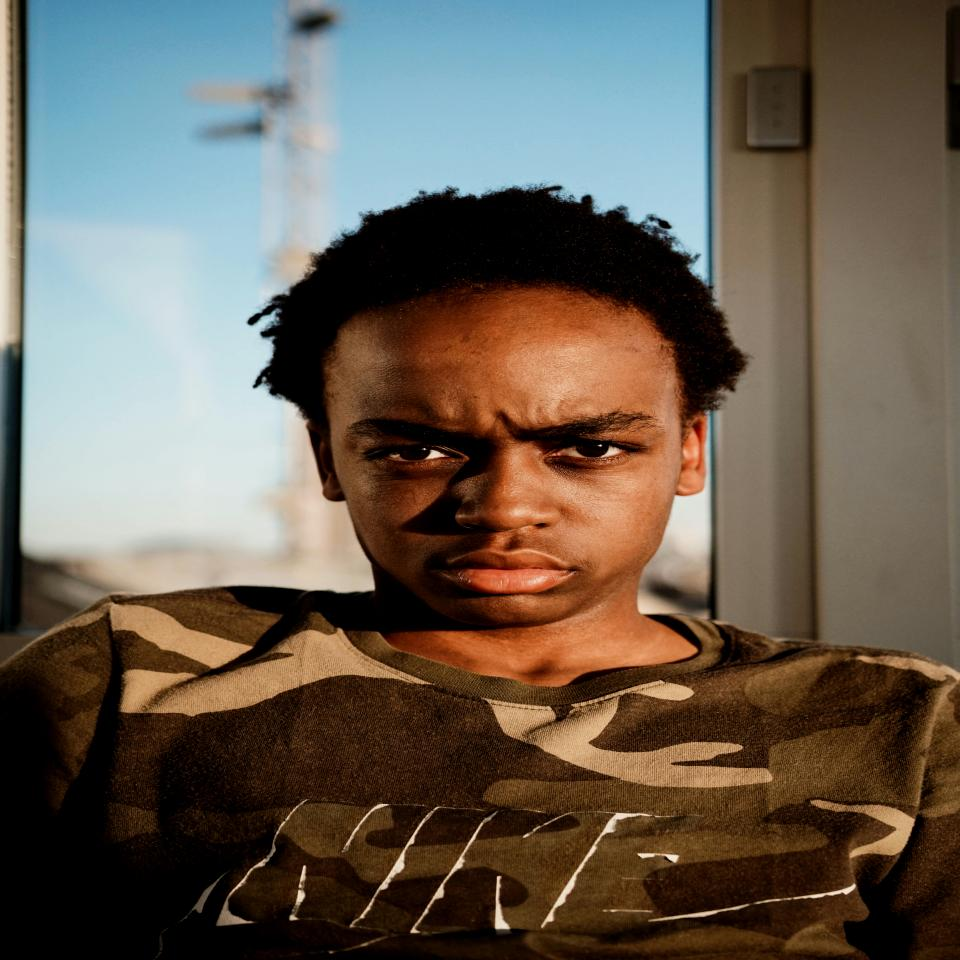Sadness: (300, 297, 700, 631)
